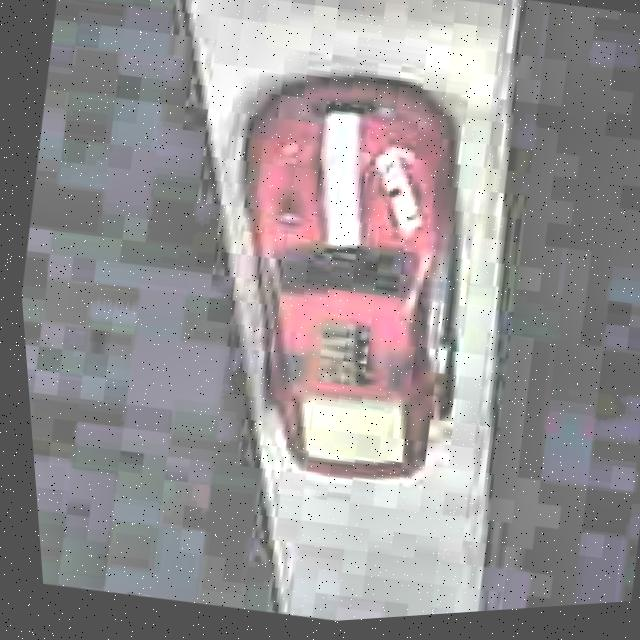car: (171, 39, 521, 508)
